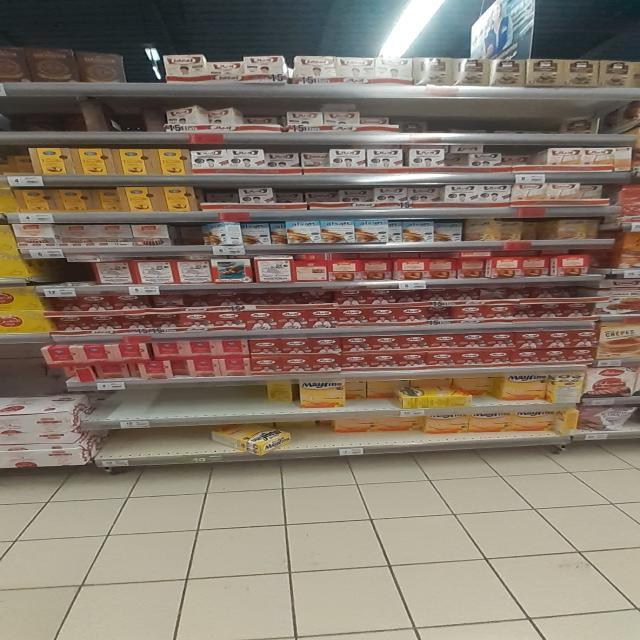produto: (164, 50, 640, 88), (260, 333, 592, 365), (47, 337, 254, 380), (130, 253, 330, 283)
vazio: (357, 93, 633, 136), (4, 89, 172, 141), (70, 383, 259, 417), (85, 423, 239, 458), (284, 414, 430, 447)
